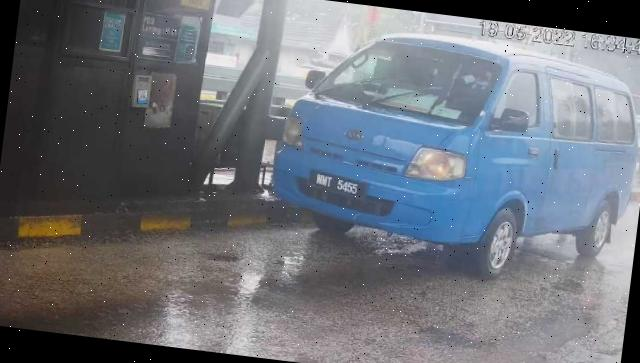License_Plate: (311, 170, 369, 202)
van: (263, 17, 640, 295)
